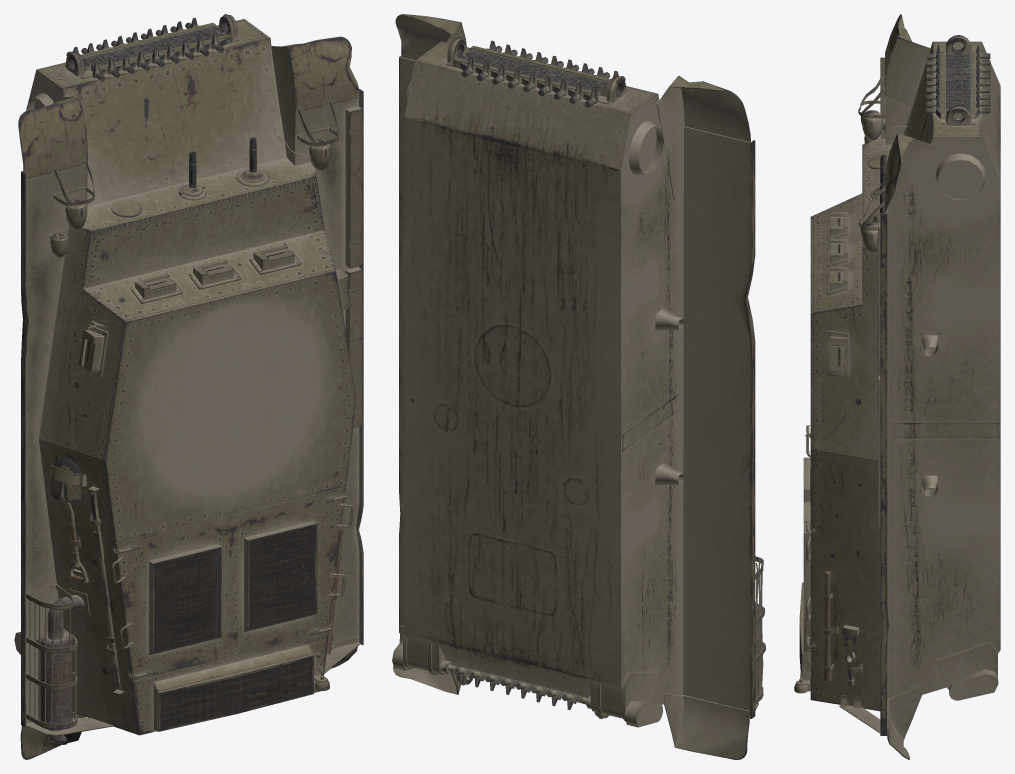
The model's file is Hull.glb.
The picture shows the model from 3 angles, left to right: view 1: azimuth 30°, elevation 25°; view 2: azimuth 150°, elevation 25°; view 3: azimuth 270°, elevation 25°; orthographic projection. The views are drawn at different scales.
Parts seen in each view (by area): view 1: set_0_group_0; view 2: set_0_group_0; view 3: set_0_group_0.
Part boxes in pixels (left/top/right/bottom): set_0_group_0: left=14, top=14, right=363, bottom=759; set_0_group_0: left=392, top=14, right=765, bottom=759; set_0_group_0: left=794, top=14, right=1000, bottom=759.
Bounding box in the file's own units: 2.64 × 4.93 × 1.48.
Materials: 1 (1 with a texture image).
